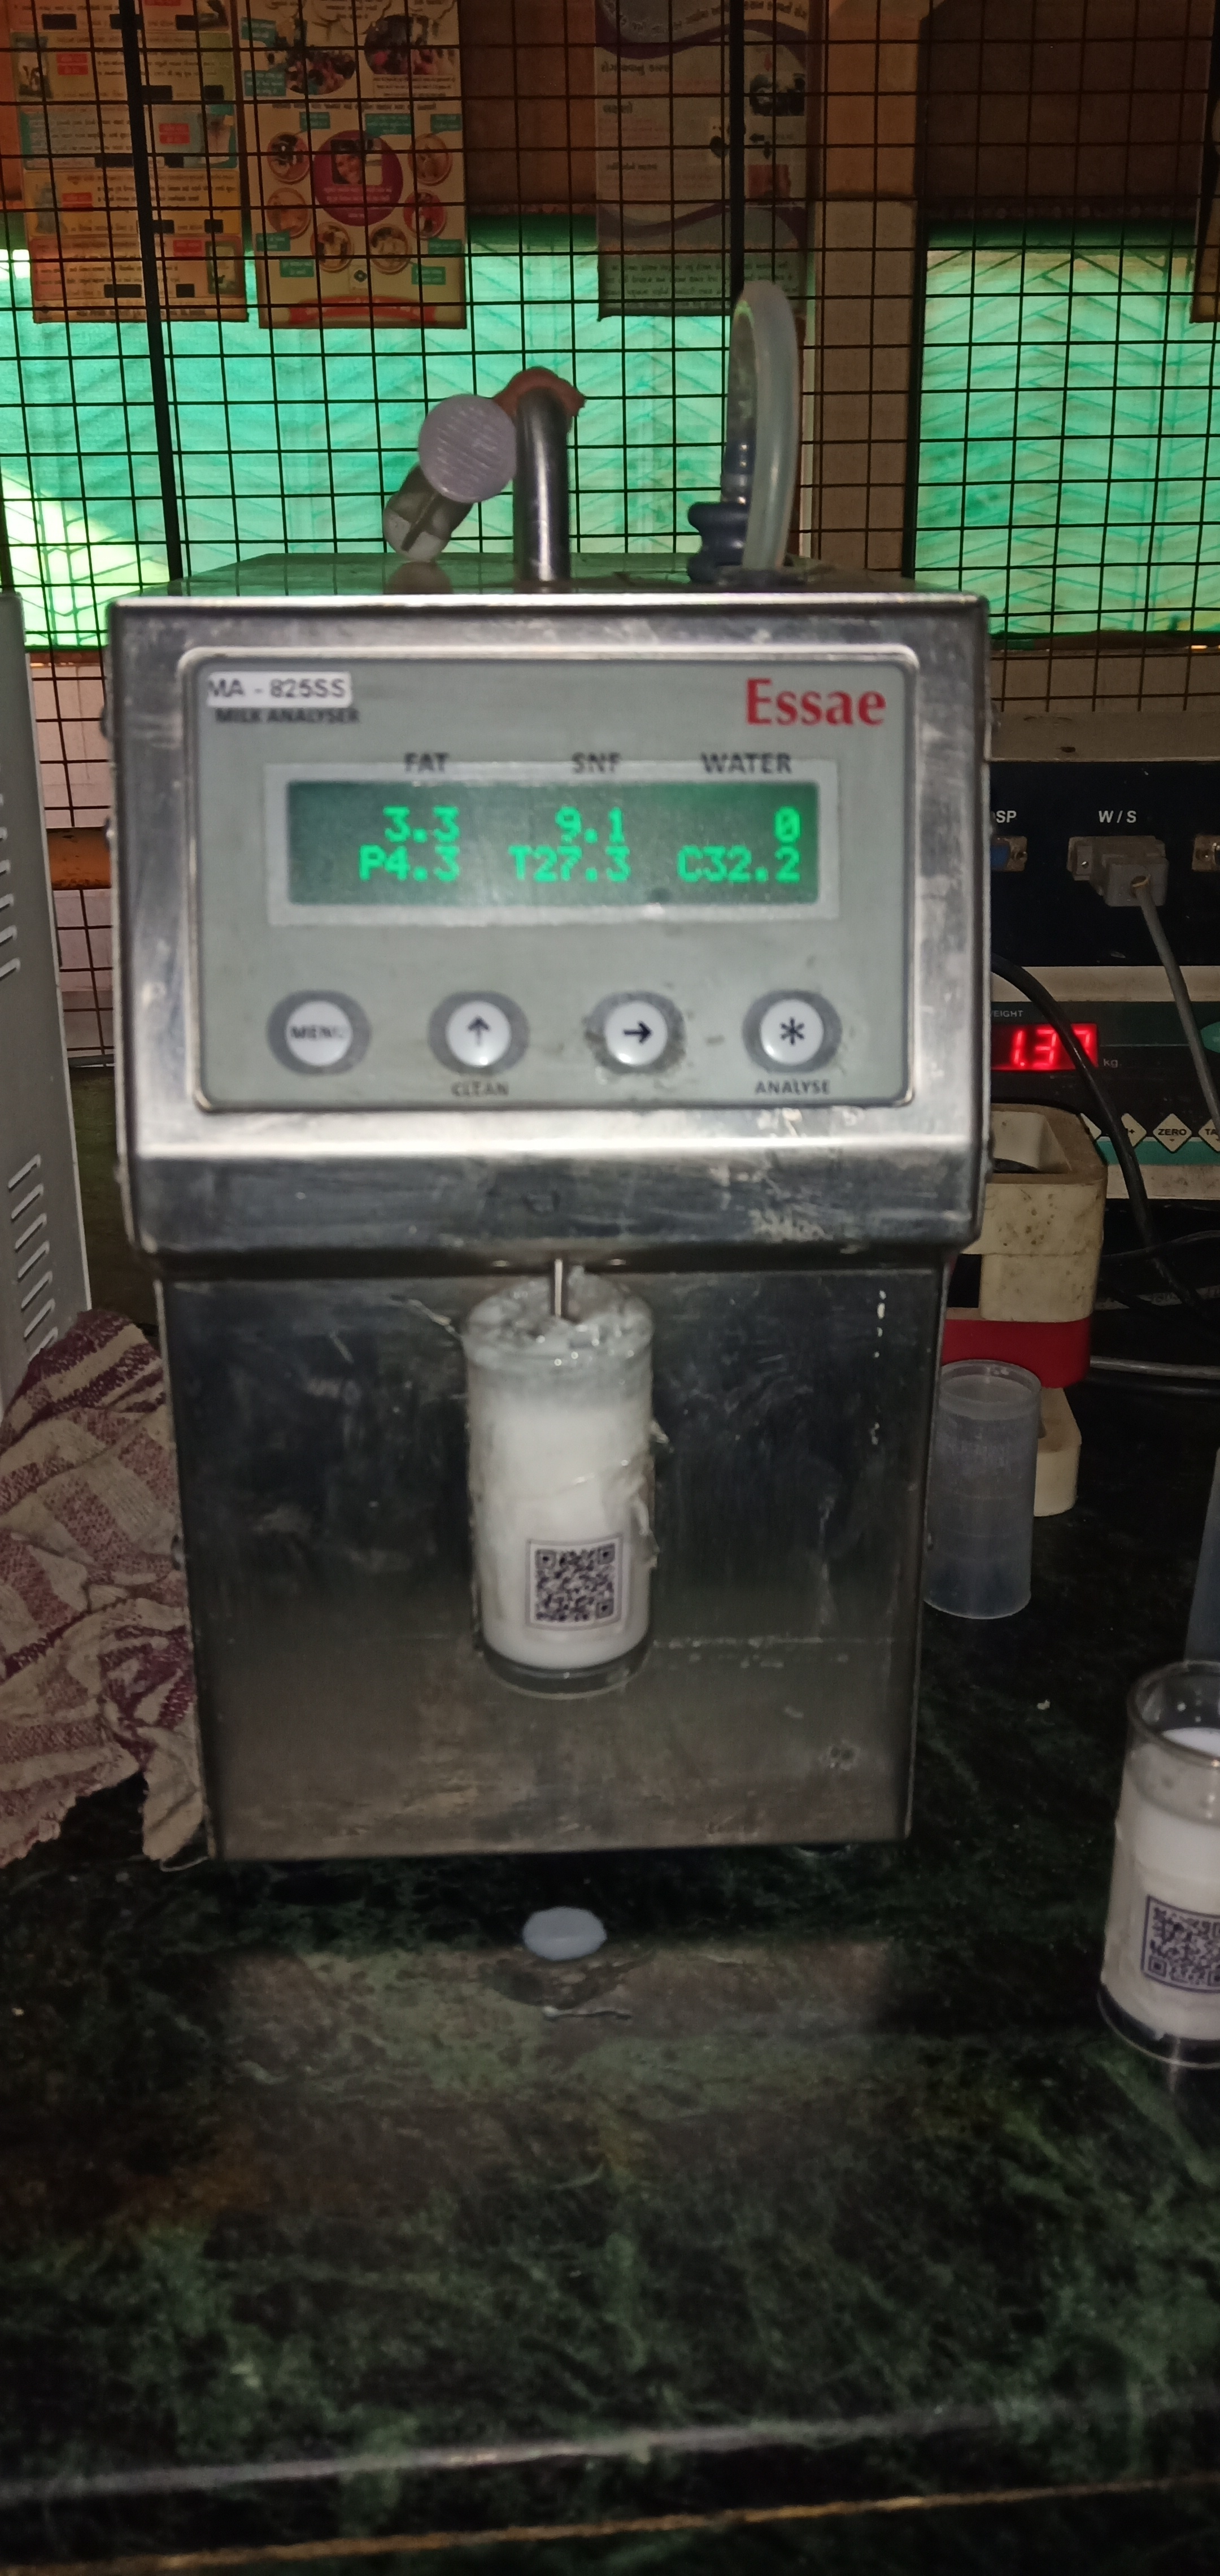lcd: (294, 779, 842, 936)
qr: (530, 1541, 632, 1635), (1136, 1889, 1220, 1998)
